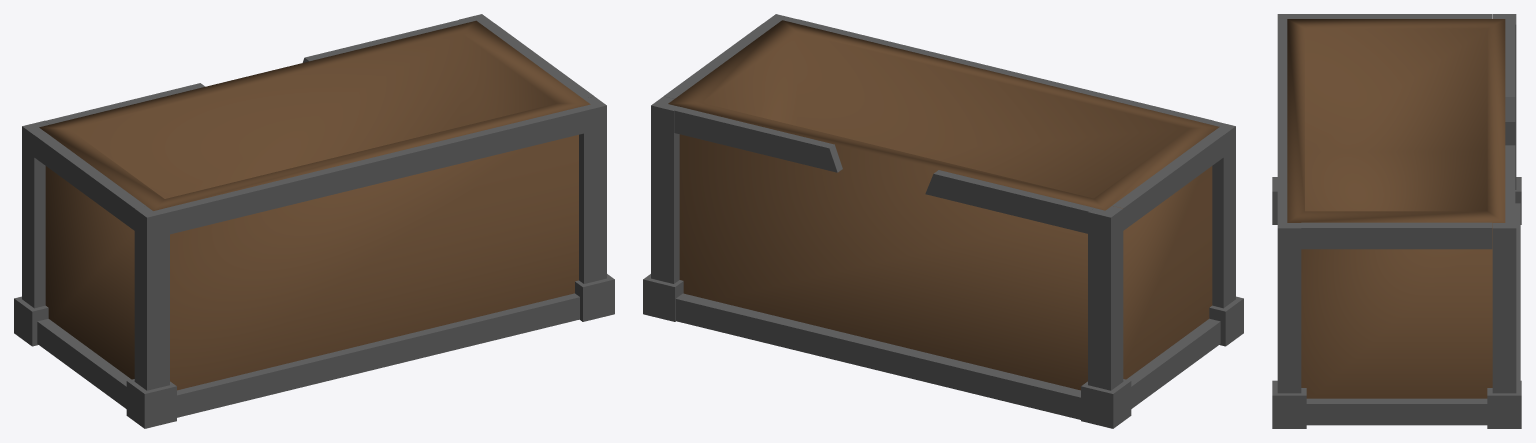
File: Cofre  inferior.fbx
The picture shows the model from 3 angles, left to right: view 1: azimuth 30°, elevation 25°; view 2: azimuth 150°, elevation 25°; view 3: azimuth 270°, elevation 25°; orthographic projection. The views are drawn at different scales.
Visible parts, largest first — view 1: inferior; view 2: inferior; view 3: inferior.
Part boxes in pixels (left/top/right/bottom): inferior: left=14, top=14, right=614, bottom=428; inferior: left=643, top=14, right=1243, bottom=428; inferior: left=1272, top=14, right=1521, bottom=428.
Size of the model in its own units: 71.53 by 30.29 by 34.45.
